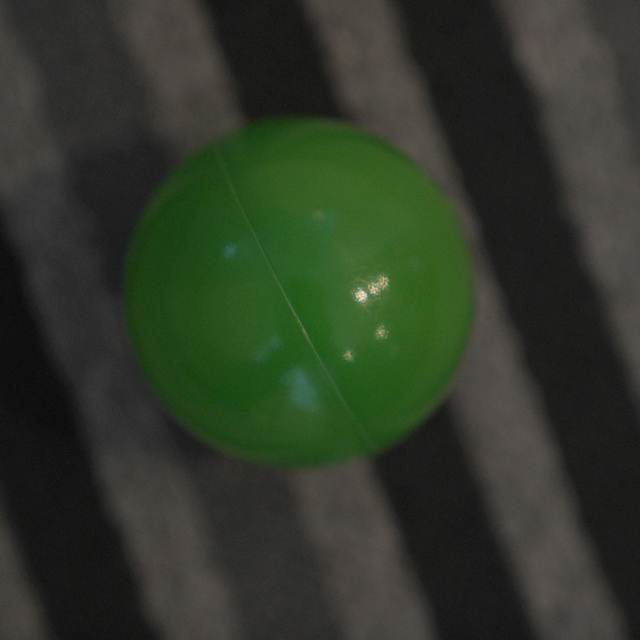Ball: (123, 119, 472, 469)
